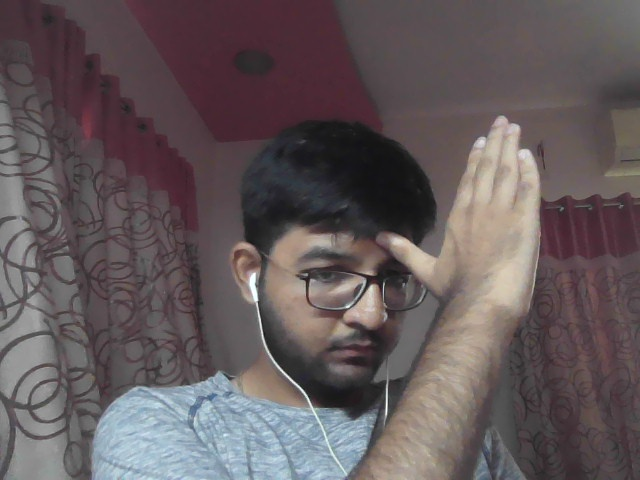પિતા: (368, 112, 601, 334)
